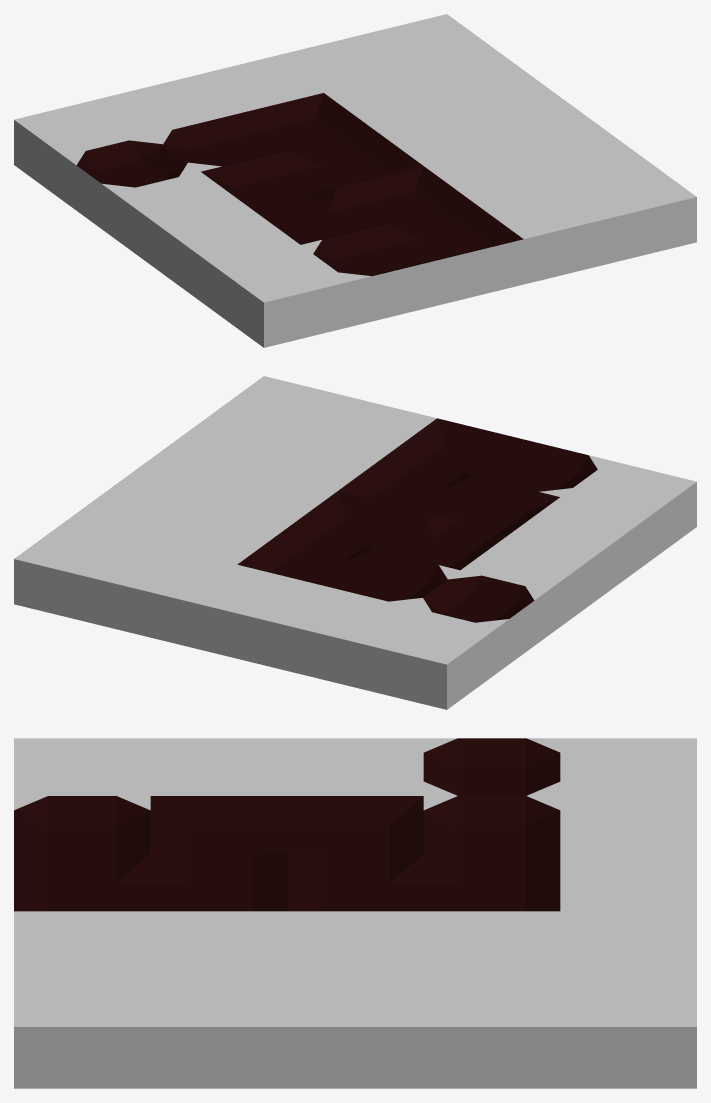
The picture shows the model from 3 angles, top to bottom: view 1: azimuth 30°, elevation 25°; view 2: azimuth 150°, elevation 25°; view 3: azimuth 270°, elevation 25°; orthographic projection. The views are drawn at different scales.
Parts seen in each view (by area): view 1: foil.block.0.0_block.10864, foil.block.3.0_block.10871, foil.block.4.0_block.10876, foil.corner.2.0_corner.3200, foil.ending.1.0_ending.1279, foil.block.0.2_block.10866, foil.block.0.3_Cube.025, foil.block.0.4_block.10868, foil.block.0.1_block.10865, foil.corner.2.1_corner.3201, foil.corner.2.3_corner.3203, foil.corner.1.2_corner.3199 (+13 smaller); view 2: foil.block.0.4_block.10868, foil.block.3.4_block.10875, foil.block.1.4_block.10869, foil.block.4.4_block.10880, foil.block.2.4_block.10870, foil.block.0.0_block.10864, foil.block.0.1_block.10865, foil.block.0.2_block.10866, foil.block.0.3_Cube.025, foil.corner.2.2_corner.3202, foil.corner.2.0_corner.3200, foil.corner.1.1_corner.3198 (+13 smaller); view 3: foil.block.4.1_block.10877, foil.block.4.3_block.10879, foil.block.4.0_block.10876, foil.block.4.2_block.10878, foil.block.4.4_block.10880, foil.corner.1.1_corner.3198, foil.ending.1.3_ending.1280, foil.ending.1.0_ending.1279, foil.corner.1.2_corner.3199, foil.block.2.4_block.10870, foil.block.0.1_block.10865, foil.block.0.3_Cube.025 (+13 smaller).
Boxes of the visible parts, box(x1,y1,x2,y2) form: foil.block.0.0_block.10864: box(214, 245, 350, 347); foil.block.3.0_block.10871: box(474, 181, 610, 284); foil.block.4.0_block.10876: box(560, 160, 696, 263); foil.corner.2.0_corner.3200: box(387, 203, 523, 305); foil.ending.1.0_ending.1279: box(301, 224, 437, 326); foil.block.0.2_block.10866: box(114, 172, 249, 274); foil.block.0.3_Cube.025: box(64, 135, 200, 237); foil.block.0.4_block.10868: box(14, 98, 149, 201); foil.block.0.1_block.10865: box(164, 208, 299, 310); foil.corner.2.1_corner.3201: box(337, 166, 473, 229); foil.corner.2.3_corner.3203: box(237, 93, 373, 156); foil.corner.1.2_corner.3199: box(201, 150, 336, 214); foil.block.0.4_block.10868: box(360, 607, 496, 709); foil.block.3.4_block.10875: box(100, 543, 236, 646); foil.block.1.4_block.10869: box(273, 586, 409, 688); foil.block.4.4_block.10880: box(14, 522, 150, 625); foil.block.2.4_block.10870: box(187, 564, 323, 667); foil.block.0.0_block.10864: box(561, 460, 696, 563); foil.block.0.1_block.10865: box(510, 497, 646, 599); foil.block.0.2_block.10866: box(461, 534, 596, 636); foil.block.0.3_Cube.025: box(411, 570, 546, 672); foil.corner.2.2_corner.3202: box(287, 491, 423, 554); foil.corner.2.0_corner.3200: box(387, 418, 523, 481); foil.corner.1.1_corner.3198: box(424, 476, 559, 539); foil.block.4.1_block.10877: box(150, 969, 287, 1088); foil.block.4.3_block.10879: box(423, 969, 560, 1088); foil.block.4.0_block.10876: box(14, 969, 150, 1088); foil.block.4.2_block.10878: box(287, 969, 423, 1088); foil.block.4.4_block.10880: box(560, 969, 696, 1088); foil.corner.1.1_corner.3198: box(150, 796, 287, 868); foil.ending.1.3_ending.1280: box(423, 796, 560, 868); foil.ending.1.0_ending.1279: box(14, 796, 150, 868); foil.corner.1.2_corner.3199: box(287, 796, 423, 868); foil.block.2.4_block.10870: box(560, 853, 696, 911); foil.block.0.1_block.10865: box(150, 738, 287, 795); foil.block.0.3_Cube.025: box(423, 738, 560, 795).
Bounding box in the file's own units: 10 × 1 × 10.
